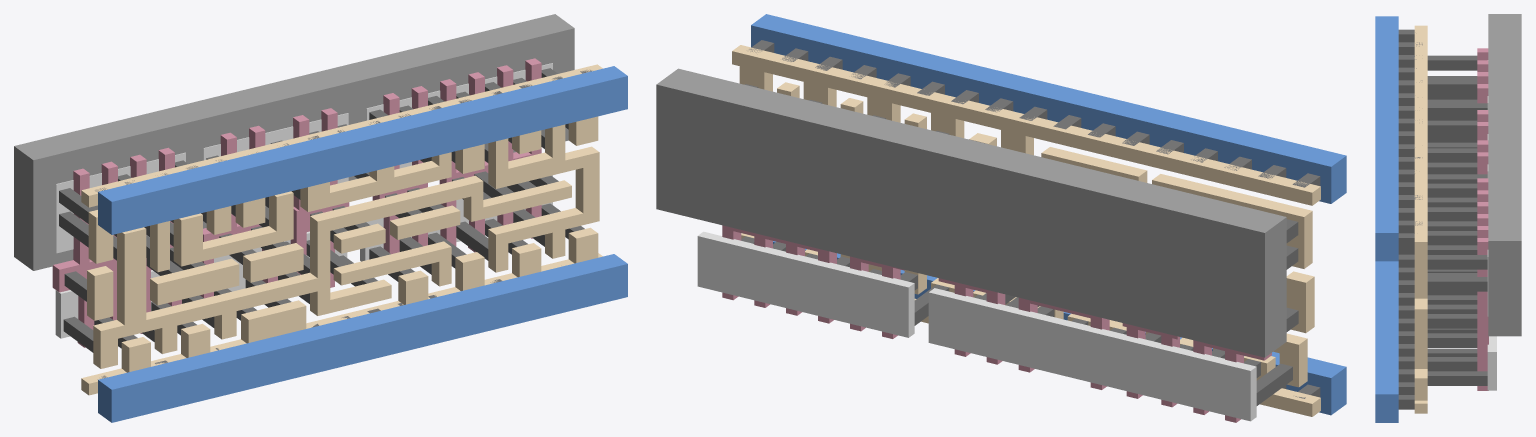
Rendered from sky130_fd_sc_hd__a2111o_4.gds.gltf.
The picture shows the model from 3 angles, left to right: view 1: azimuth 30°, elevation 25°; view 2: azimuth 150°, elevation 25°; view 3: azimuth 270°, elevation 25°; orthographic projection. The views are drawn at different scales.
Visible parts, largest first — view 1: sky130_fd_sc_hd__a2111o_4_li1, sky130_fd_sc_hd__a2111o_4_met1, sky130_fd_sc_hd__a2111o_4_nwell, sky130_fd_sc_hd__a2111o_4_licon, sky130_fd_sc_hd__a2111o_4_poly, sky130_fd_sc_hd__a2111o_4_diff, sky130_fd_sc_hd__a2111o_4_mcon; view 2: sky130_fd_sc_hd__a2111o_4_nwell, sky130_fd_sc_hd__a2111o_4_diff, sky130_fd_sc_hd__a2111o_4_li1, sky130_fd_sc_hd__a2111o_4_met1, sky130_fd_sc_hd__a2111o_4_poly, sky130_fd_sc_hd__a2111o_4_mcon, sky130_fd_sc_hd__a2111o_4_licon; view 3: sky130_fd_sc_hd__a2111o_4_licon, sky130_fd_sc_hd__a2111o_4_nwell, sky130_fd_sc_hd__a2111o_4_met1, sky130_fd_sc_hd__a2111o_4_mcon, sky130_fd_sc_hd__a2111o_4_li1, sky130_fd_sc_hd__a2111o_4_poly, sky130_fd_sc_hd__a2111o_4_diff.
Boxes of the visible parts, x1,y1,x2,y2 form: sky130_fd_sc_hd__a2111o_4_li1: (81, 64, 602, 395); sky130_fd_sc_hd__a2111o_4_met1: (98, 66, 627, 422); sky130_fd_sc_hd__a2111o_4_nwell: (14, 14, 574, 270); sky130_fd_sc_hd__a2111o_4_licon: (59, 68, 584, 352); sky130_fd_sc_hd__a2111o_4_poly: (52, 58, 541, 347); sky130_fd_sc_hd__a2111o_4_diff: (55, 63, 552, 338); sky130_fd_sc_hd__a2111o_4_mcon: (95, 70, 592, 379); sky130_fd_sc_hd__a2111o_4_nwell: (656, 68, 1286, 357); sky130_fd_sc_hd__a2111o_4_diff: (697, 231, 1256, 421); sky130_fd_sc_hd__a2111o_4_li1: (732, 45, 1320, 416); sky130_fd_sc_hd__a2111o_4_met1: (751, 14, 1346, 415); sky130_fd_sc_hd__a2111o_4_poly: (722, 225, 1271, 422); sky130_fd_sc_hd__a2111o_4_mcon: (749, 40, 1320, 398); sky130_fd_sc_hd__a2111o_4_licon: (741, 84, 1298, 405); sky130_fd_sc_hd__a2111o_4_licon: (1427, 55, 1487, 385); sky130_fd_sc_hd__a2111o_4_nwell: (1488, 14, 1521, 336); sky130_fd_sc_hd__a2111o_4_met1: (1375, 16, 1398, 422); sky130_fd_sc_hd__a2111o_4_mcon: (1398, 29, 1422, 409); sky130_fd_sc_hd__a2111o_4_li1: (1414, 25, 1427, 413); sky130_fd_sc_hd__a2111o_4_poly: (1477, 48, 1488, 390); sky130_fd_sc_hd__a2111o_4_diff: (1487, 96, 1496, 390).
Size of the model in its own units: 8.2 by 3.2 by 2.24.
